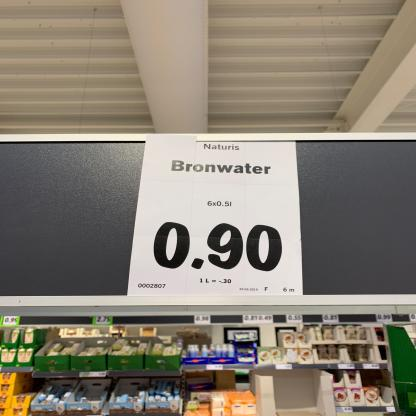prtg: (129, 142, 305, 297)
